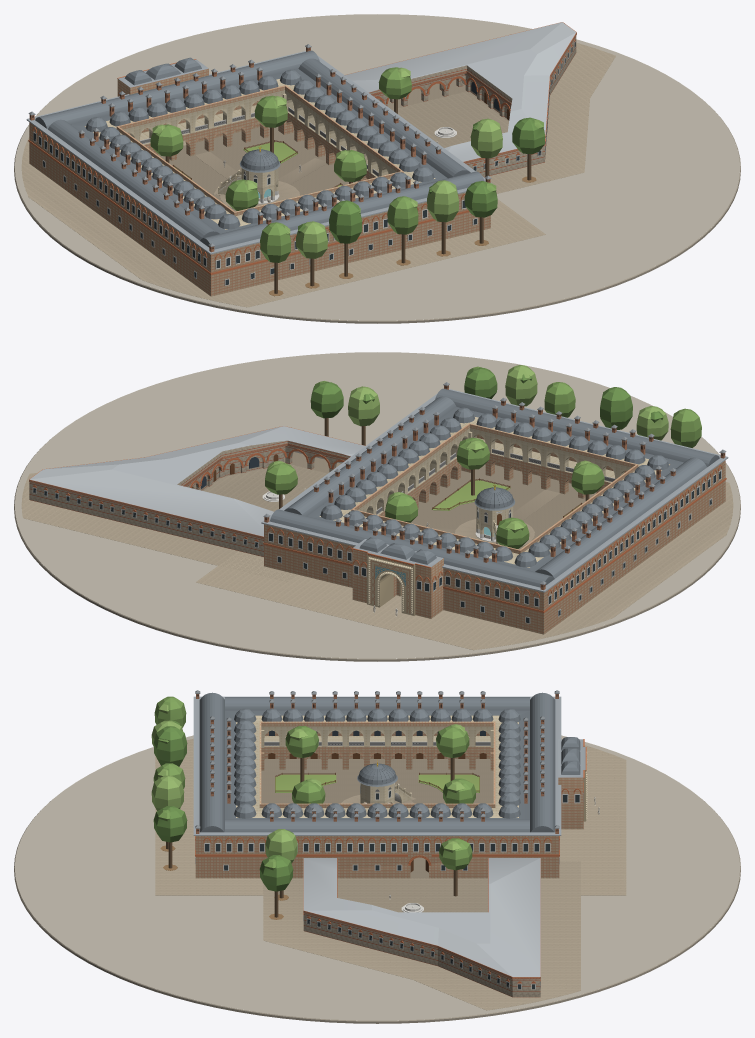
The model's file is koza-han_v12_sunum.glb.
The picture shows the model from 3 angles, top to bottom: view 1: azimuth 30°, elevation 25°; view 2: azimuth 150°, elevation 25°; view 3: azimuth 270°, elevation 25°; orthographic projection.
Visible parts, largest first — view 1: Zemin_Kaide, Cevre_Doseme, Cati, Govde_Dis, Ic_Koza, Kubbe_Avlu, Avlu_Zemin, Avlu_Revak, Baca, Avlu_Agac, Cephe, Portal (+12 smaller); view 2: Zemin_Kaide, Cevre_Doseme, Ic_Koza, Cati, Govde_Dis, Kubbe_Avlu, Avlu_Zemin, Avlu_Revak, Portal, Baca, Avlu_Agac, Cephe (+12 smaller); view 3: Zemin_Kaide, Cevre_Doseme, Cati, Ic_Koza, Govde_Dis, Avlu_Zemin, Kubbe_Avlu, Avlu_Revak, Avlu_Agac, Baca, Cephe, Portal (+11 smaller).
Part boxes in pixels (x1,y1,x2,y2): Zemin_Kaide: [14, 14, 740, 323]; Cevre_Doseme: [21, 42, 615, 307]; Cati: [26, 50, 492, 254]; Govde_Dis: [29, 69, 490, 296]; Ic_Koza: [344, 22, 576, 177]; Kubbe_Avlu: [85, 69, 434, 229]; Avlu_Zemin: [158, 75, 508, 211]; Avlu_Revak: [85, 79, 435, 229]; Baca: [28, 44, 491, 252]; Avlu_Agac: [150, 67, 411, 210]; Cephe: [32, 91, 477, 285]; Portal: [117, 57, 208, 96]; Zemin_Kaide: [14, 352, 740, 661]; Cevre_Doseme: [21, 472, 733, 650]; Ic_Koza: [29, 426, 365, 556]; Cati: [261, 388, 728, 592]; Govde_Dis: [264, 407, 725, 634]; Kubbe_Avlu: [320, 407, 669, 567]; Avlu_Zemin: [202, 452, 596, 549]; Avlu_Revak: [319, 417, 669, 567]; Portal: [352, 537, 443, 618]; Baca: [263, 382, 726, 590]; Avlu_Agac: [265, 437, 604, 548]; Cephe: [267, 465, 722, 623]; Zemin_Kaide: [14, 735, 740, 1023]; Cevre_Doseme: [155, 738, 626, 1010]; Cati: [193, 692, 561, 835]; Ic_Koza: [303, 858, 540, 997]; Govde_Dis: [195, 710, 559, 878]; Avlu_Zemin: [261, 759, 493, 912]; Kubbe_Avlu: [234, 708, 520, 818]; Avlu_Revak: [236, 715, 518, 817]; Avlu_Agac: [285, 724, 476, 896]; Baca: [195, 690, 559, 833]; Cephe: [195, 783, 583, 870]; Portal: [558, 737, 587, 829].
Size of the model in its own units: 144 by 16.92 by 144.
Materials: 42 (16 with a texture image).
